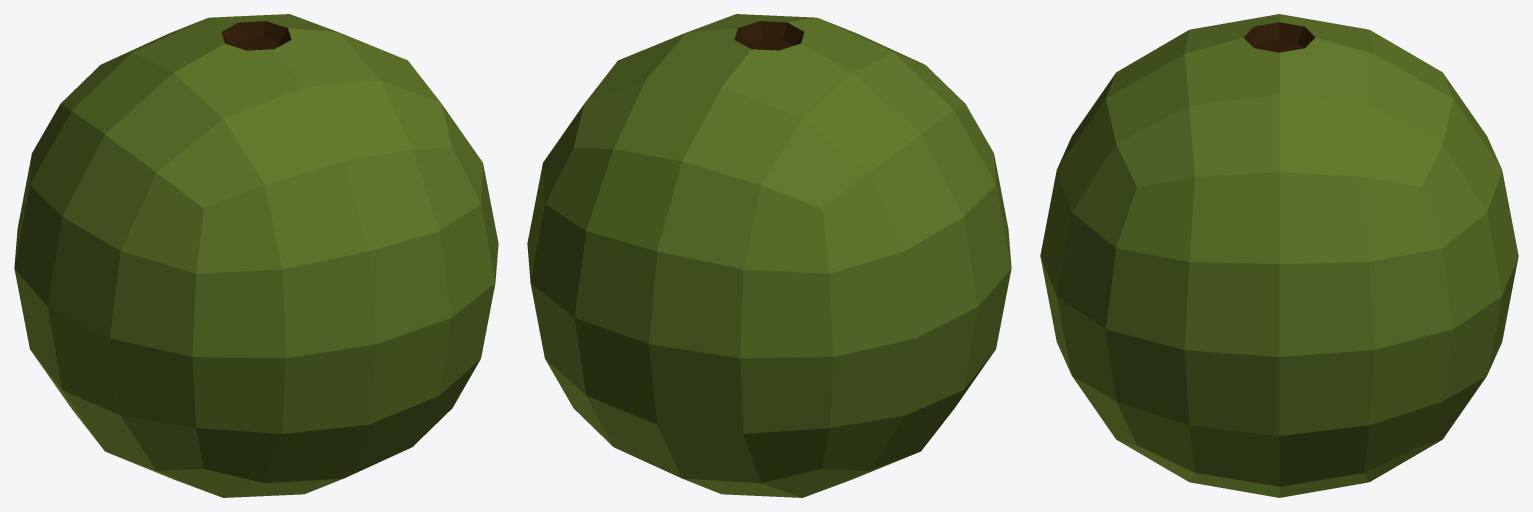
The model's file is Guava.fbx.
The picture shows the model from 3 angles, left to right: view 1: azimuth 30°, elevation 25°; view 2: azimuth 150°, elevation 25°; view 3: azimuth 270°, elevation 25°; orthographic projection.
Visible parts, largest first — view 1: Guava; view 2: Guava; view 3: Guava.
Boxes of the visible parts, box(x1,y1,x2,y2) form: Guava: box(14, 14, 498, 497); Guava: box(527, 14, 1011, 497); Guava: box(1040, 14, 1518, 497).
Bounding box in the file's own units: 56.8 × 57.03 × 56.8.
